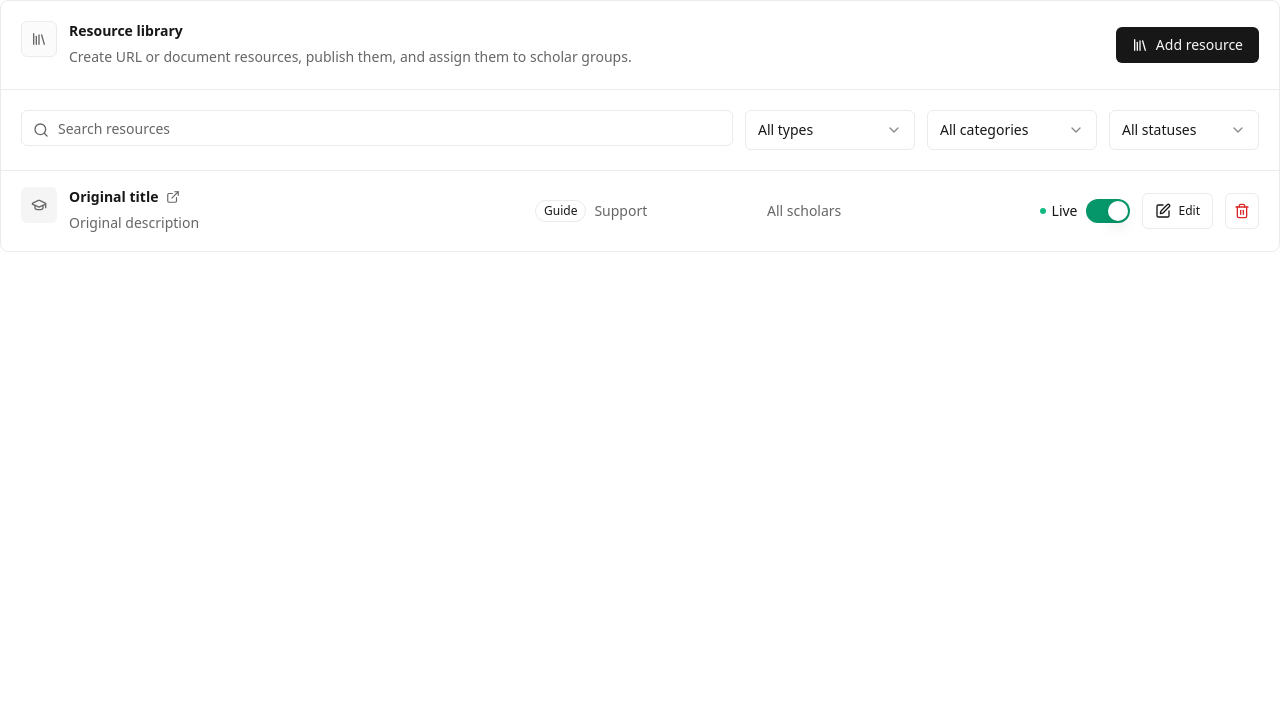
Test: ResourcesManagement › reopens an edited resource from the updated query cache
The image size is (1280, 720).
Click the button "Edit" at (1177,211), box [1142,193,1213,229]
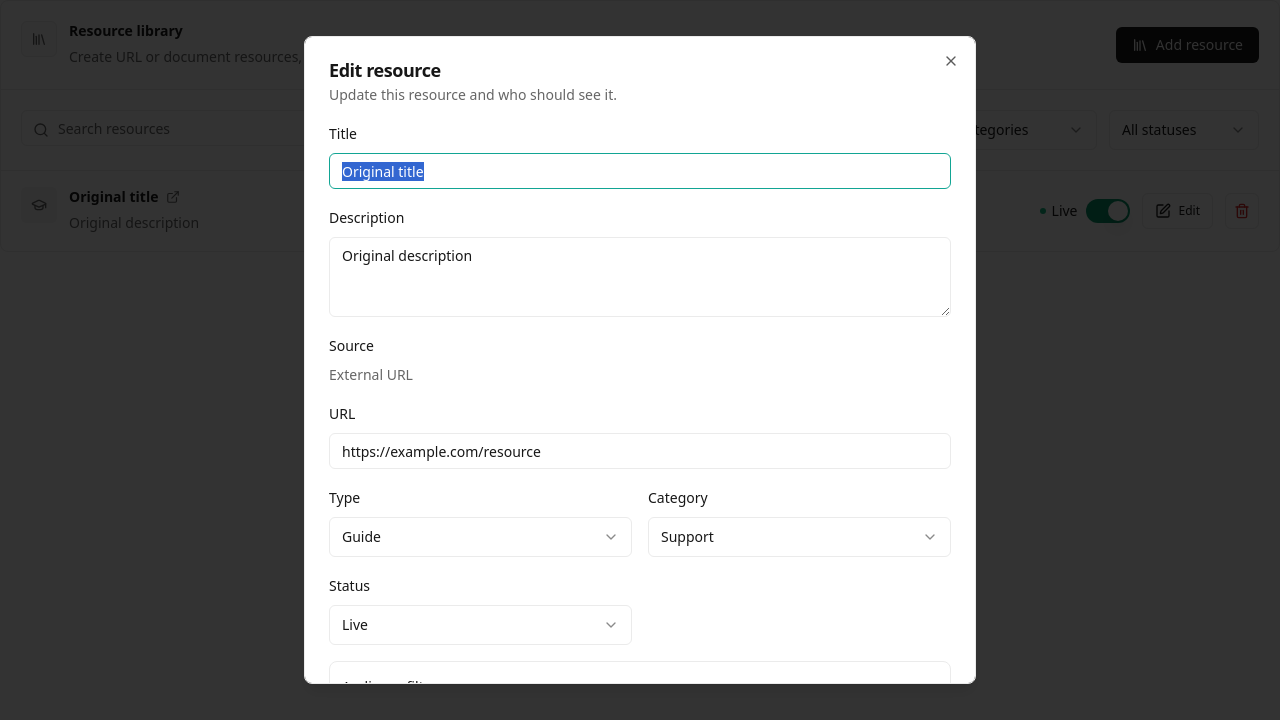
Replace the text in the field labelled "Title" with "Updated title" at (640,171), box [329,153,951,189]
(page scrolled)
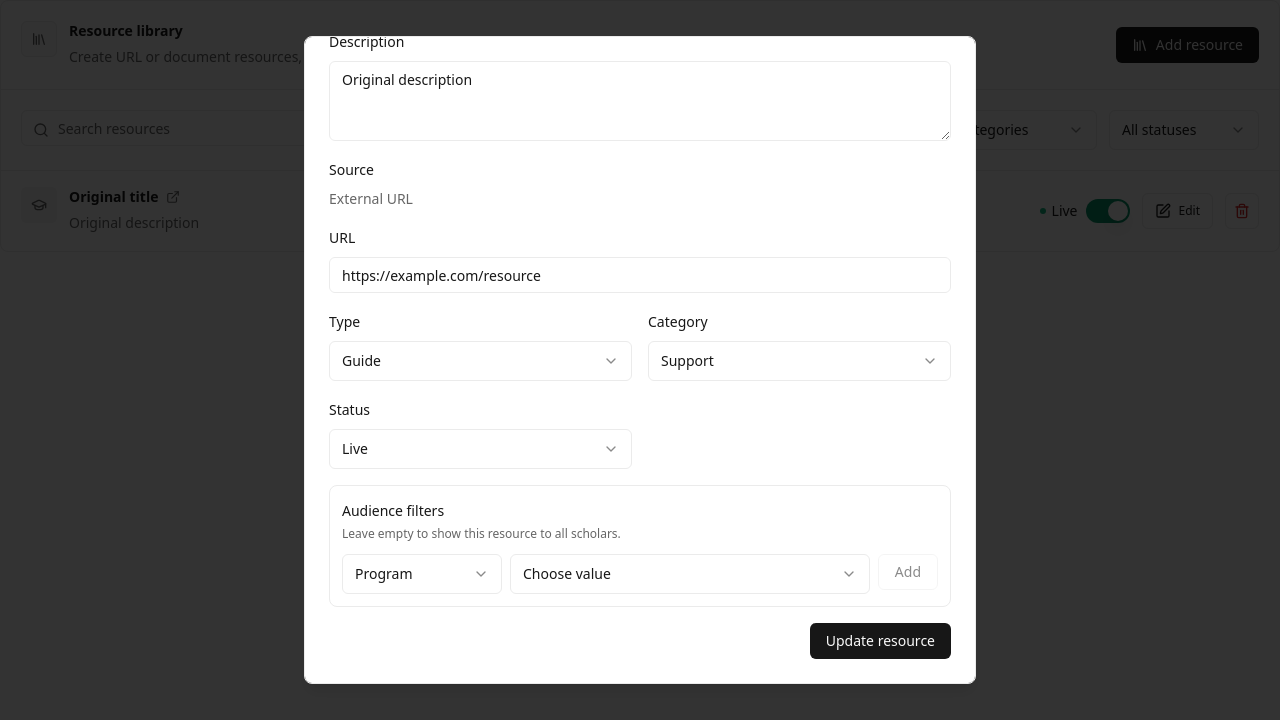
Click the button "Update resource" at (880,641), box [810,623,951,659]
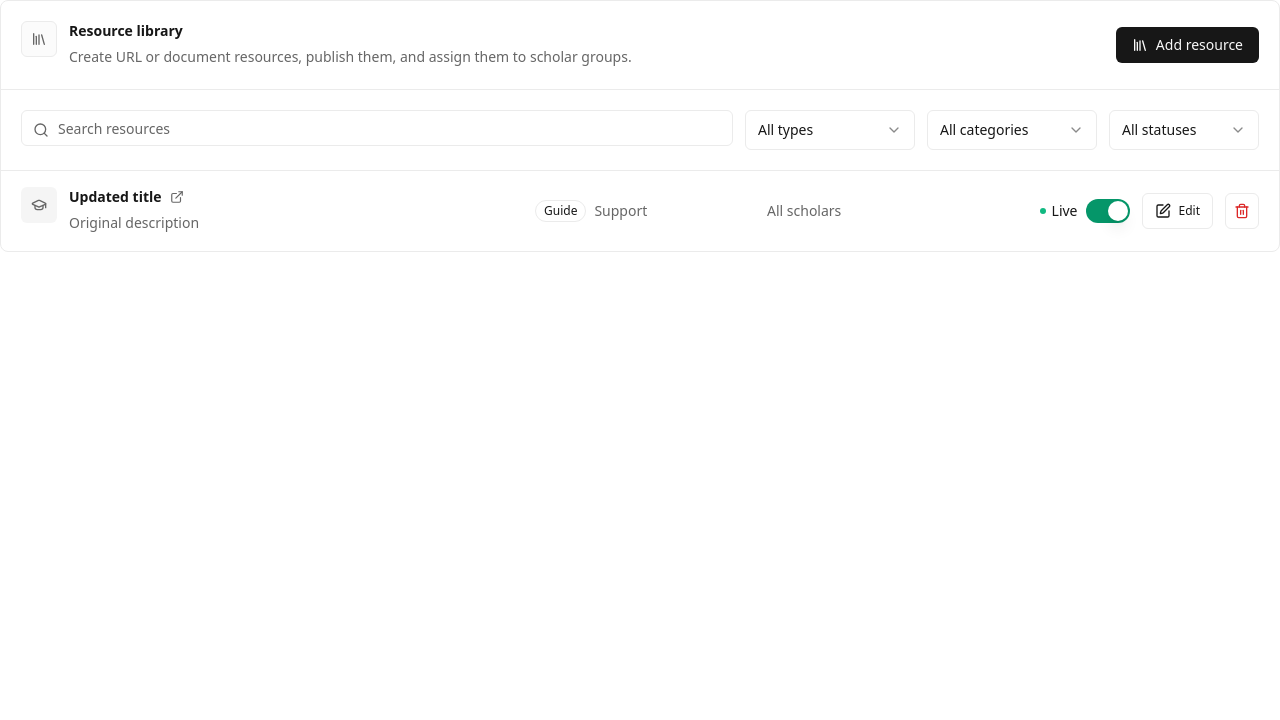
Expected: the heading "Edit resource" is not shown
Click the button "Edit" at (1177,211), box [1142,193,1213,229]
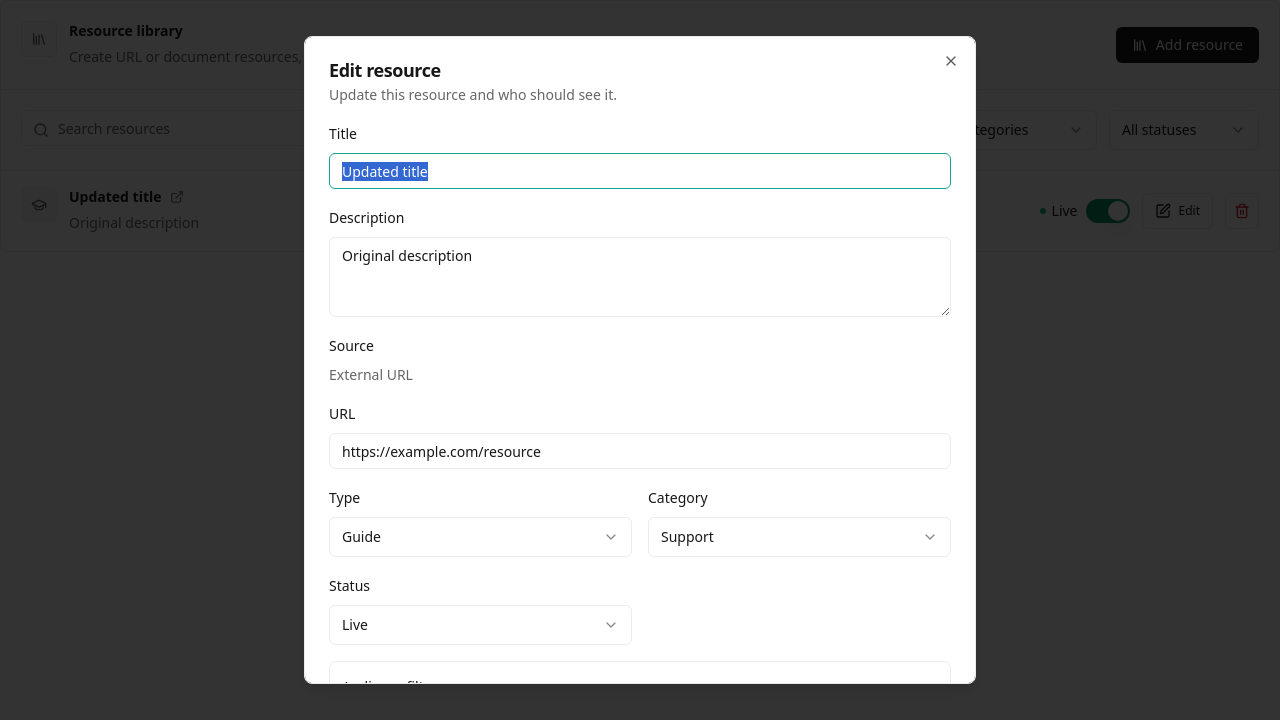
Now the field labelled "Title" holds "Updated title", box [329,153,951,189]
